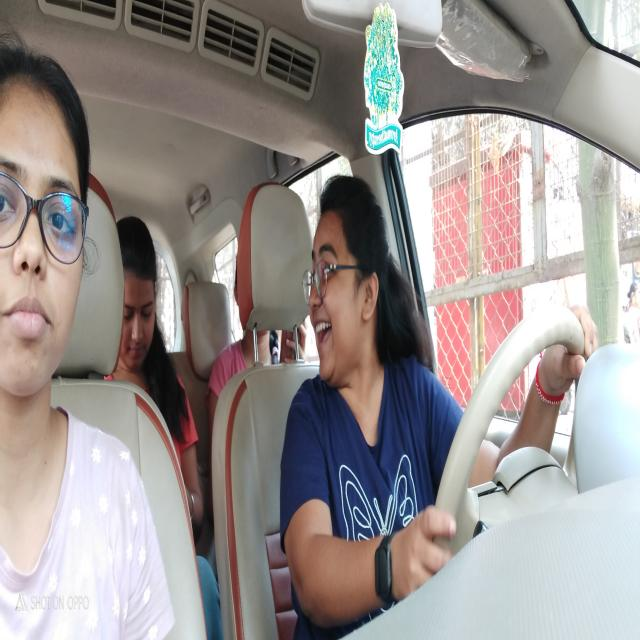LeftRight: (308, 190, 387, 385)
person: (0, 66, 92, 392), (125, 253, 159, 367), (239, 332, 277, 367)
talking: (308, 315, 338, 354)
